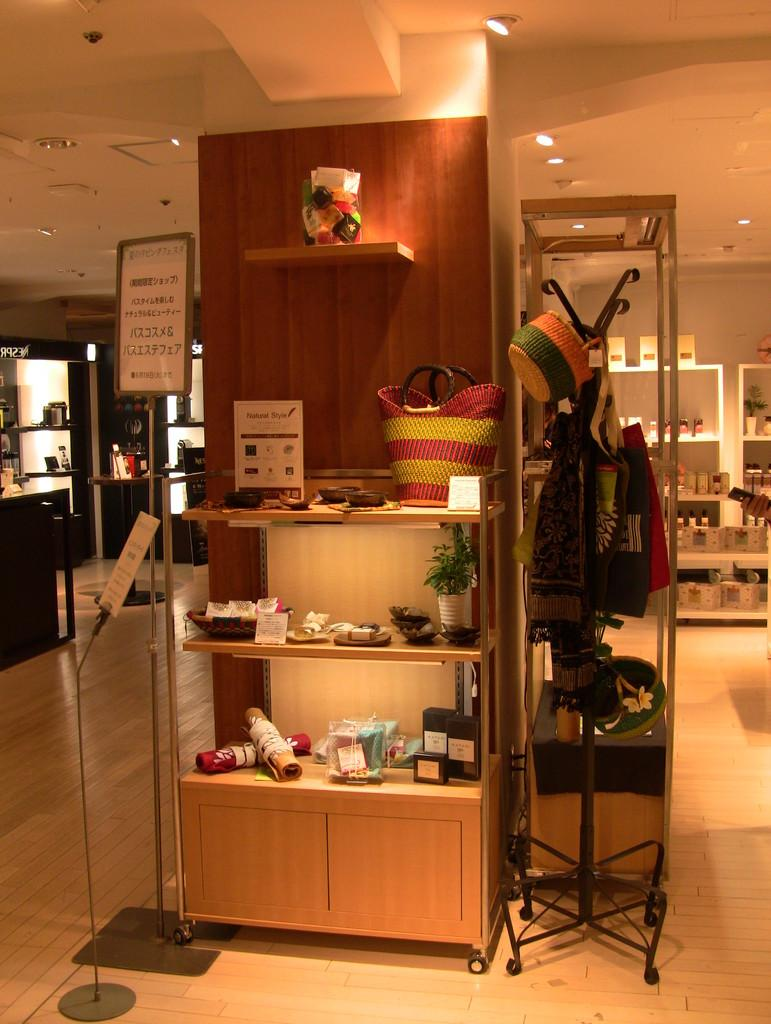Luggage-and-bags: (375, 361, 506, 506)
